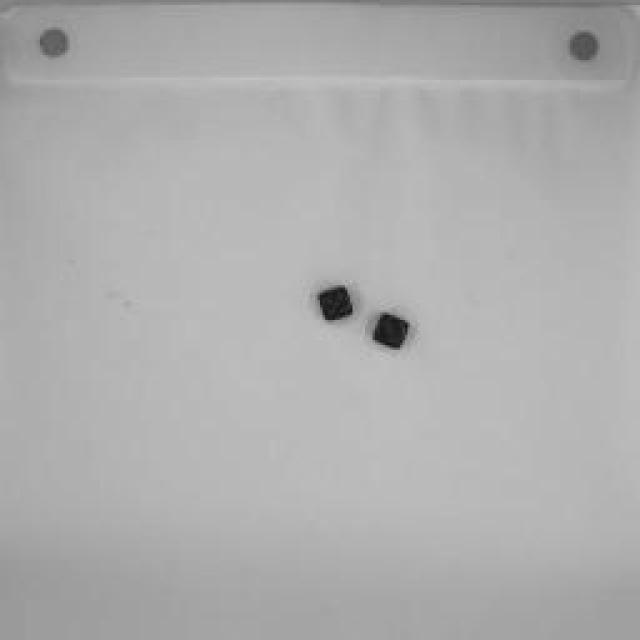dice_3: (369, 312, 411, 350)
dice_5: (314, 283, 354, 325)
